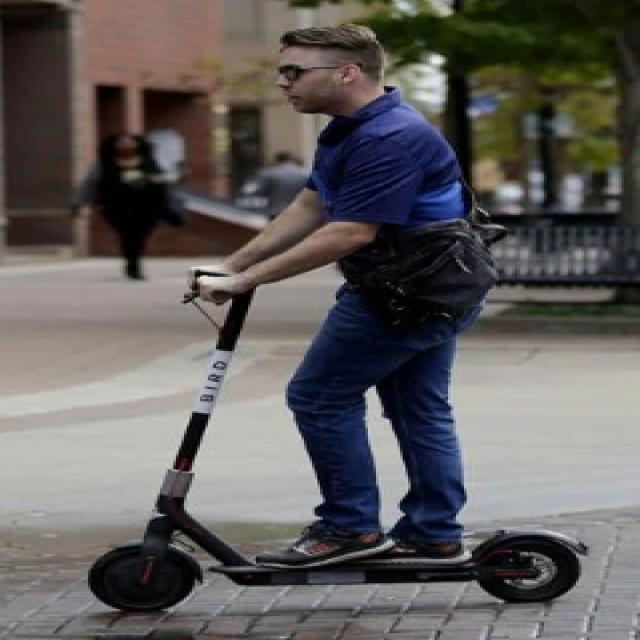non-helmet: (54, 14, 600, 637)
